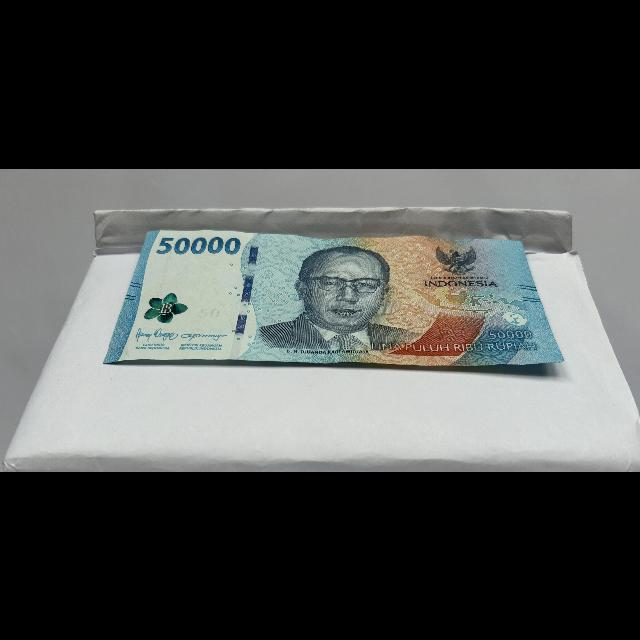Asli-50k: (98, 225, 574, 376)
Tinta-Asli-50k: (141, 290, 191, 325)
